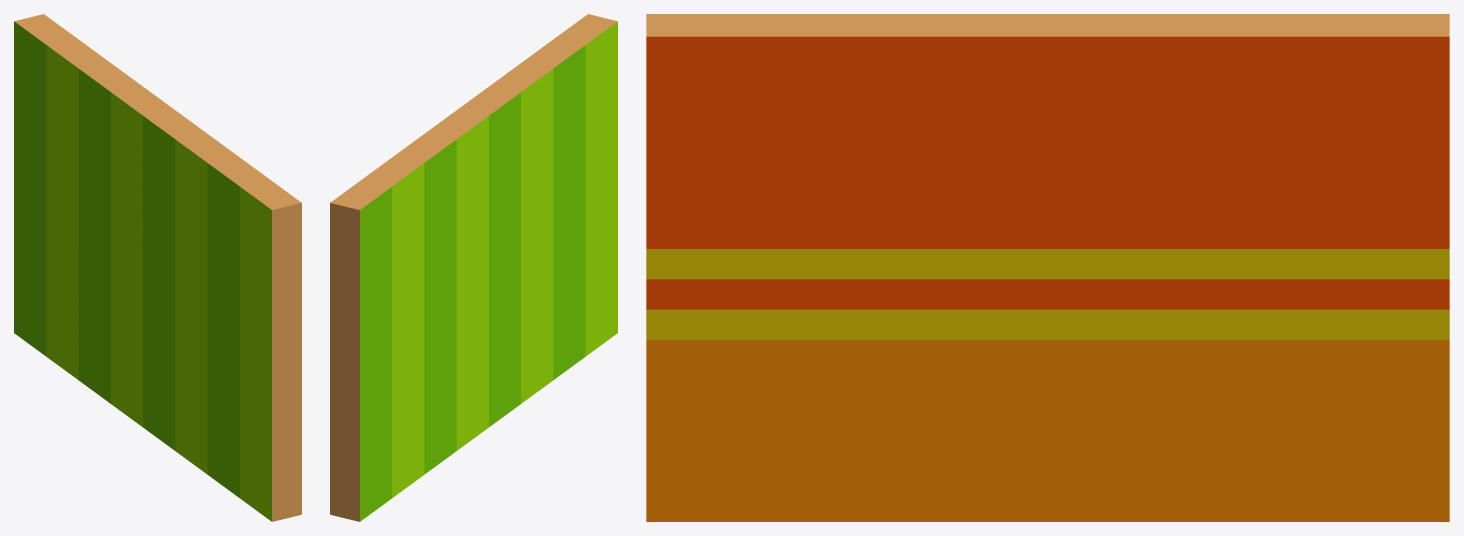
File: RoomWall.fbx
3 views of the same model, side by side, from view 1: azimuth 30°, elevation 25°; view 2: azimuth 150°, elevation 25°; view 3: azimuth 270°, elevation 25° (orthographic). The views are drawn at different scales.
Parts seen in each view (by area): view 1: RoomWall; view 2: RoomWall; view 3: RoomWall.
Boxes of the visible parts, left/top/right/bottom form: RoomWall: left=14, top=14, right=301, bottom=521; RoomWall: left=330, top=14, right=617, bottom=521; RoomWall: left=646, top=14, right=1449, bottom=521.
Size of the model in its own units: 20 by 200 by 300.
